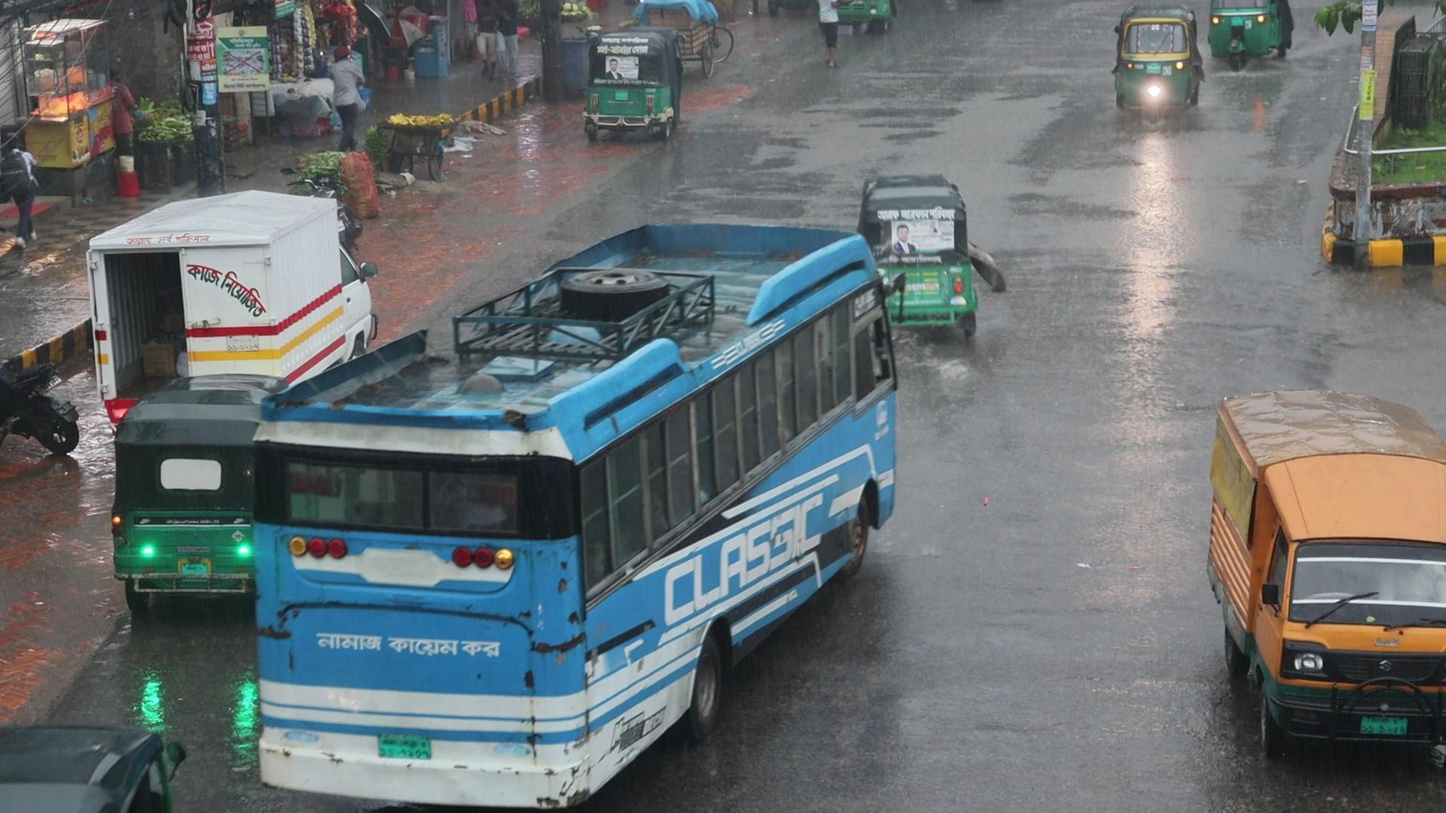Bus: (245, 215, 899, 813)
Truck: (1204, 385, 1446, 760)
